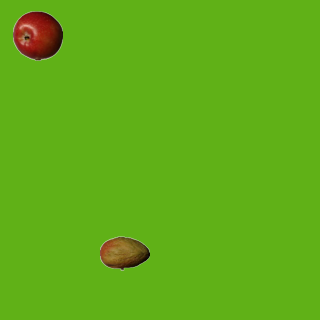Apple Braeburn: (12, 10, 62, 60)
Papaya: (99, 228, 149, 278)
